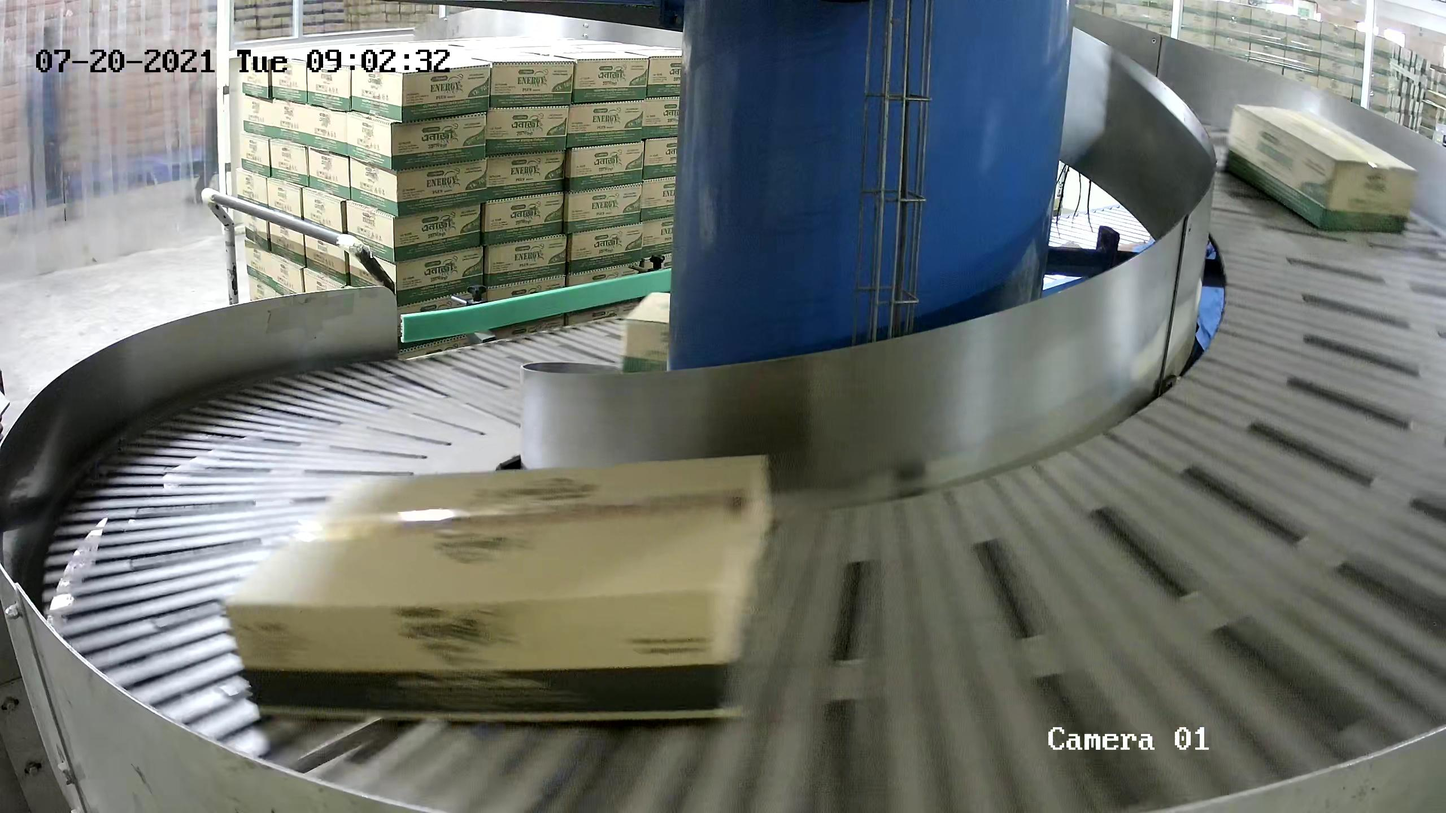Box: (222, 448, 781, 723), (1224, 103, 1416, 234)
